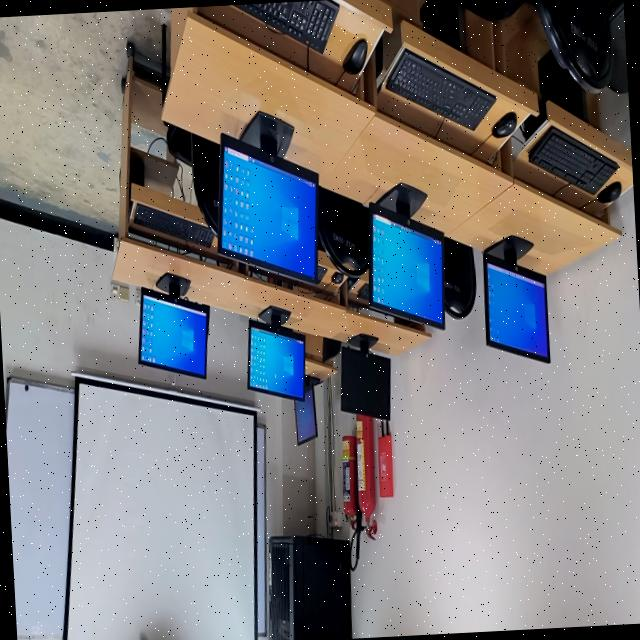Chair: (532, 0, 610, 92), (317, 186, 368, 277), (442, 237, 475, 318), (192, 135, 218, 235), (605, 0, 628, 93)
Cpu: (538, 50, 584, 117), (419, 0, 459, 48), (523, 107, 542, 137)
Fire Extinguisher: (355, 414, 374, 522), (341, 435, 355, 527)
Keyboard: (380, 48, 495, 129), (527, 126, 617, 193), (231, 0, 339, 54), (132, 203, 213, 247), (356, 283, 368, 299), (316, 264, 326, 282)
Monitor: (217, 133, 317, 282), (368, 183, 443, 328), (482, 235, 549, 362), (138, 288, 208, 378), (247, 319, 304, 401), (339, 346, 390, 419), (294, 377, 317, 445)
Mouse: (342, 38, 366, 74), (491, 111, 515, 137), (596, 181, 620, 203), (330, 271, 343, 284)
